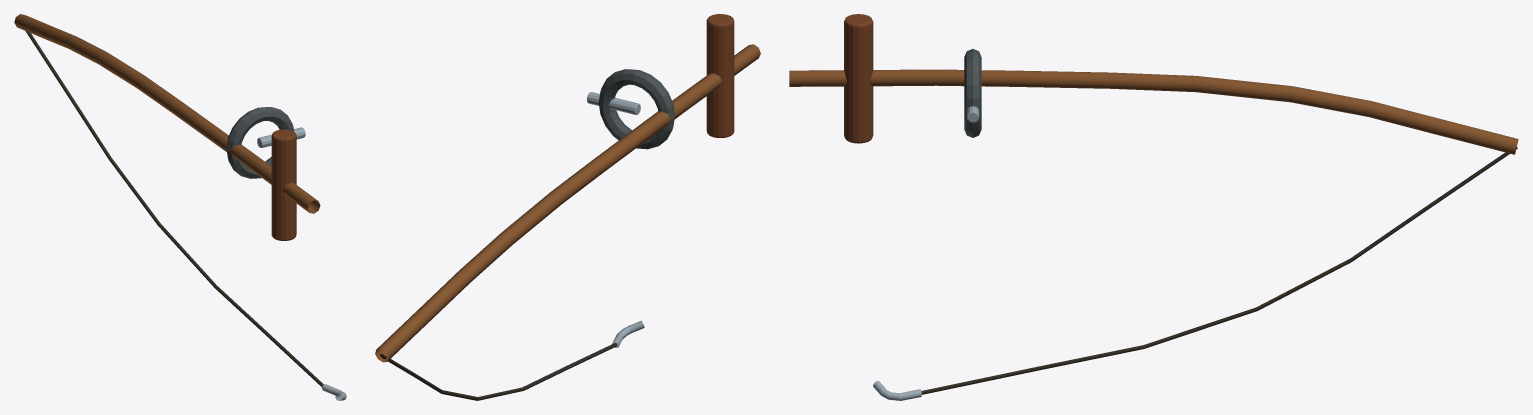
Rendered from fishing_pole.glb.
The picture shows the model from 3 angles, left to right: view 1: azimuth 30°, elevation 25°; view 2: azimuth 150°, elevation 25°; view 3: azimuth 270°, elevation 25°; orthographic projection. The views are drawn at different scales.
Parts seen in each view (by area): view 1: Fishing_Rod, Grip, Fishing_Line, Reel; view 2: Fishing_Rod, Grip, Reel, Fishing_Line, Reel_Handle; view 3: Fishing_Rod, Grip, Fishing_Line, Reel.
Boxes of the visible parts, left/top/right/bottom form: Fishing_Rod: left=14, top=14, right=320, bottom=213; Grip: left=271, top=129, right=296, bottom=240; Fishing_Line: left=25, top=31, right=323, bottom=387; Reel: left=226, top=107, right=294, bottom=178; Fishing_Rod: left=375, top=44, right=760, bottom=362; Grip: left=706, top=14, right=734, bottom=137; Reel: left=598, top=69, right=674, bottom=149; Fishing_Line: left=380, top=343, right=617, bottom=400; Reel_Handle: left=587, top=92, right=640, bottom=114; Fishing_Rod: left=789, top=69, right=1518, bottom=154; Grip: left=844, top=14, right=873, bottom=143; Fishing_Line: left=921, top=147, right=1517, bottom=394; Reel: left=964, top=49, right=981, bottom=137.
Bounding box in the file's own units: 0.3345 × 1.09 × 2.11.
